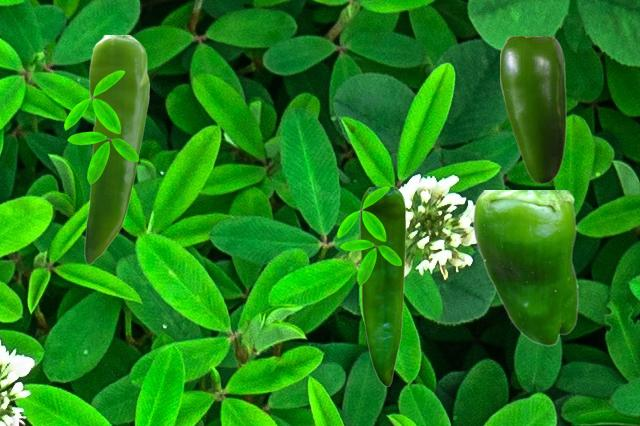green_chili: (472, 190, 577, 345), (84, 35, 148, 263), (500, 36, 565, 183), (359, 187, 405, 385)
